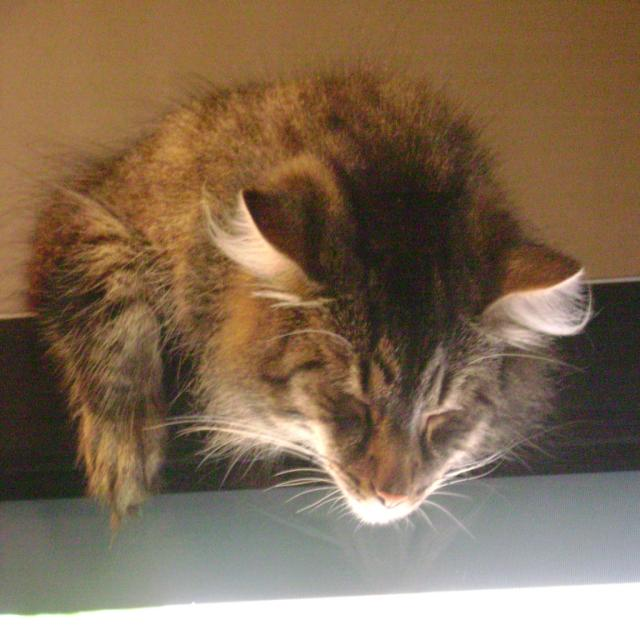Cat: (24, 61, 609, 541)
